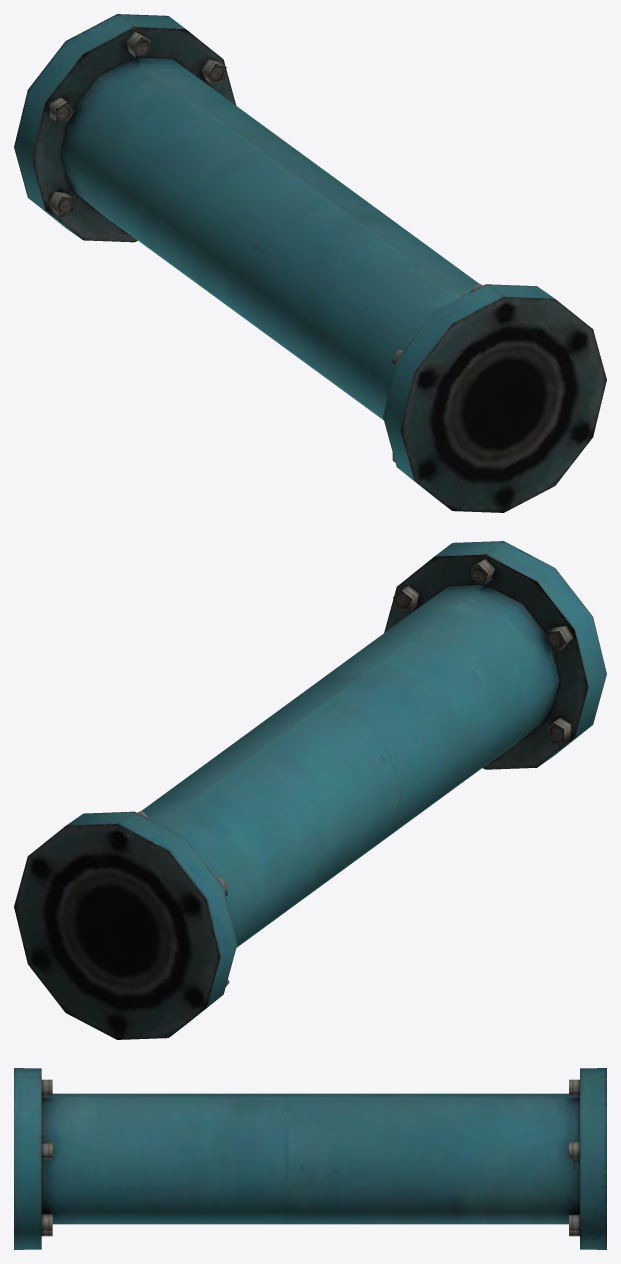
The picture shows the model from 3 angles, top to bottom: view 1: azimuth 30°, elevation 25°; view 2: azimuth 150°, elevation 25°; view 3: azimuth 270°, elevation 25°; orthographic projection. The views are drawn at different scales.
Visible parts, largest first — view 1: body0_model0_lod0_mesh0; view 2: body0_model0_lod0_mesh0; view 3: body0_model0_lod0_mesh0.
Boxes of the visible parts, x1,y1,x2,y2 form: body0_model0_lod0_mesh0: [14, 14, 606, 512]; body0_model0_lod0_mesh0: [14, 541, 606, 1039]; body0_model0_lod0_mesh0: [14, 1068, 606, 1249].
Size of the model in its own units: 39.57 by 39.57 by 128.
Materials: 1 (1 with a texture image).
